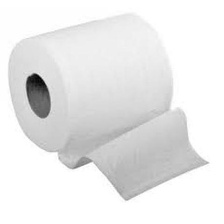tissue: (2, 7, 213, 206)
